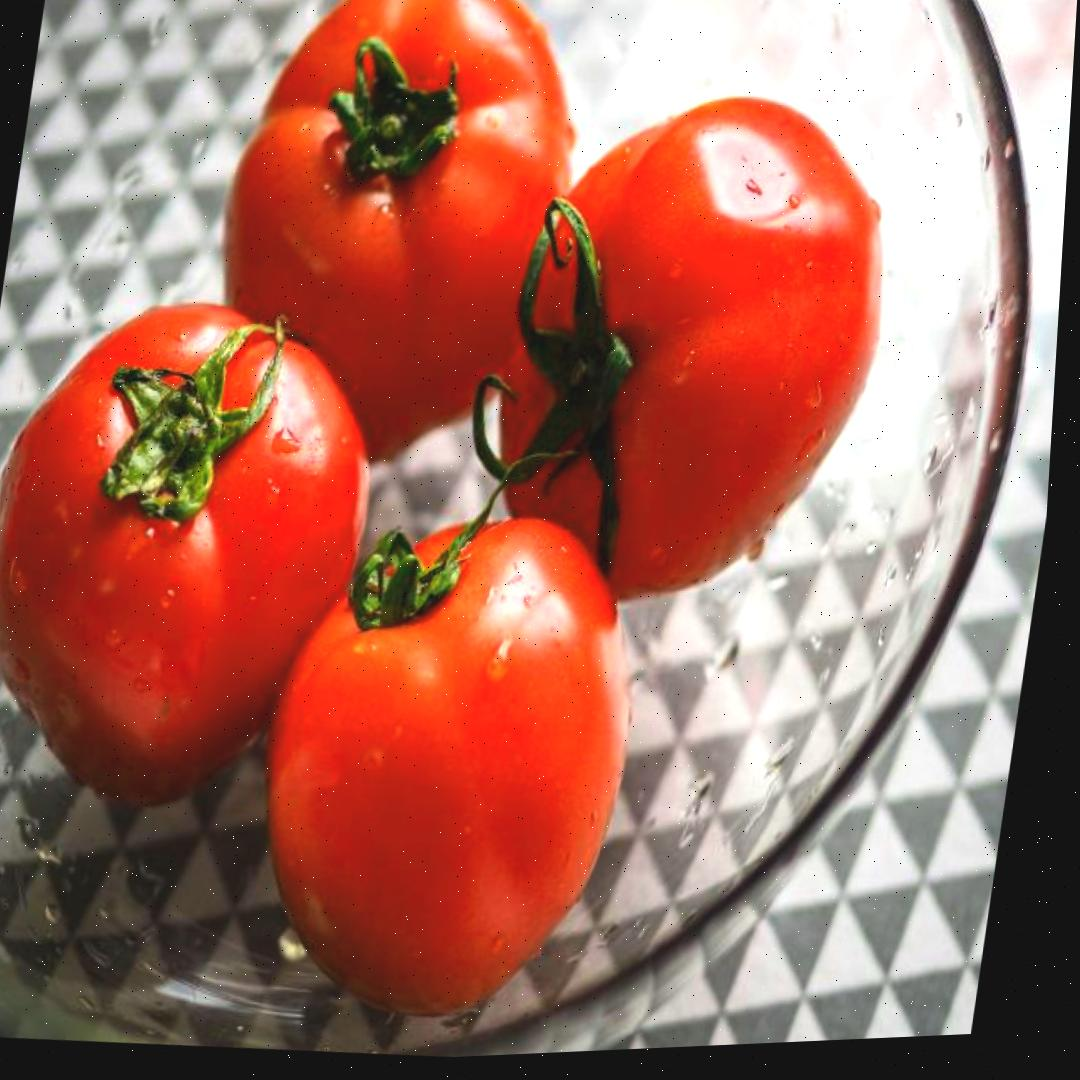matang: (469, 75, 914, 633), (227, 489, 660, 1046), (0, 283, 397, 831), (188, 0, 601, 487)
